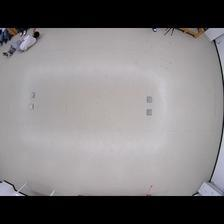fall: (1, 28, 40, 58)
